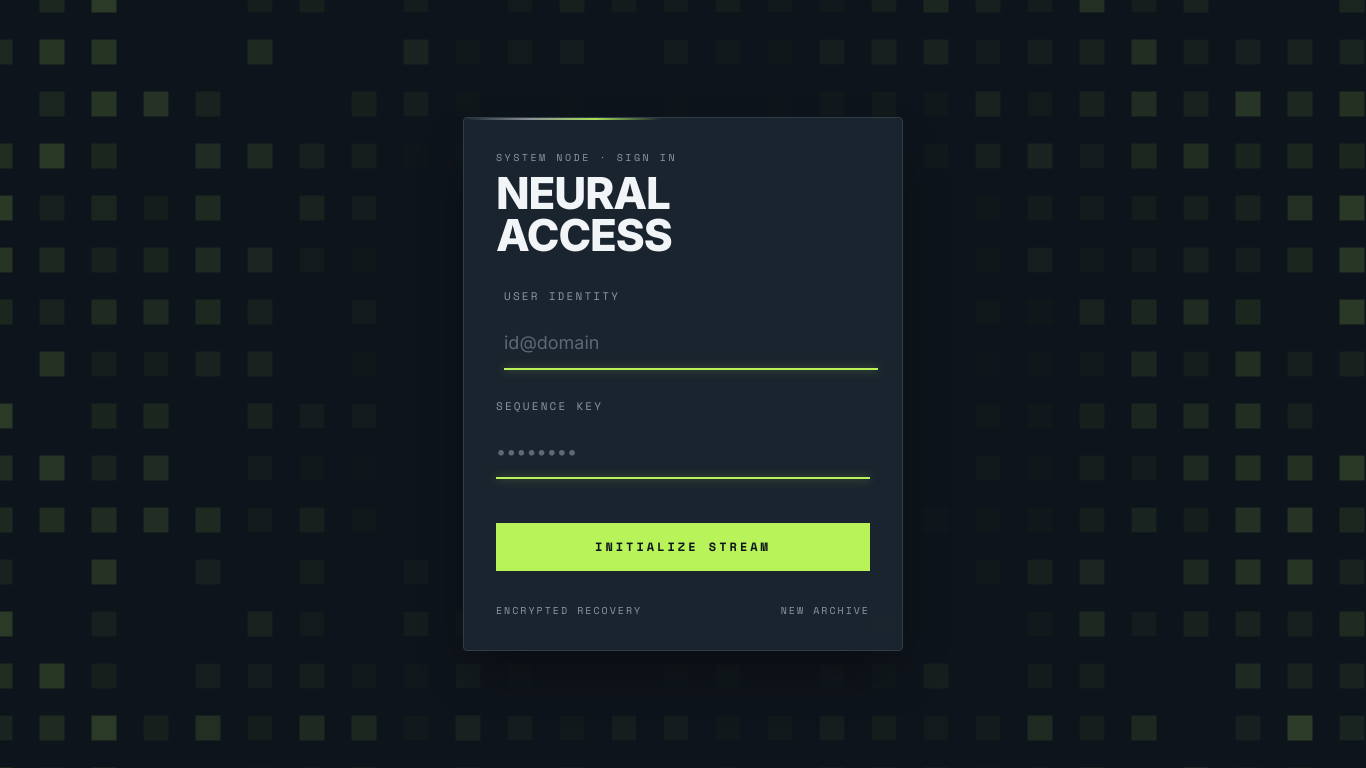
Scenario: Login › shows a backend error for invalid credentials
Type "operator@docura.test" into the field labelled "User Identity" at (691, 343), box x1=504 y1=317 x2=878 y2=370
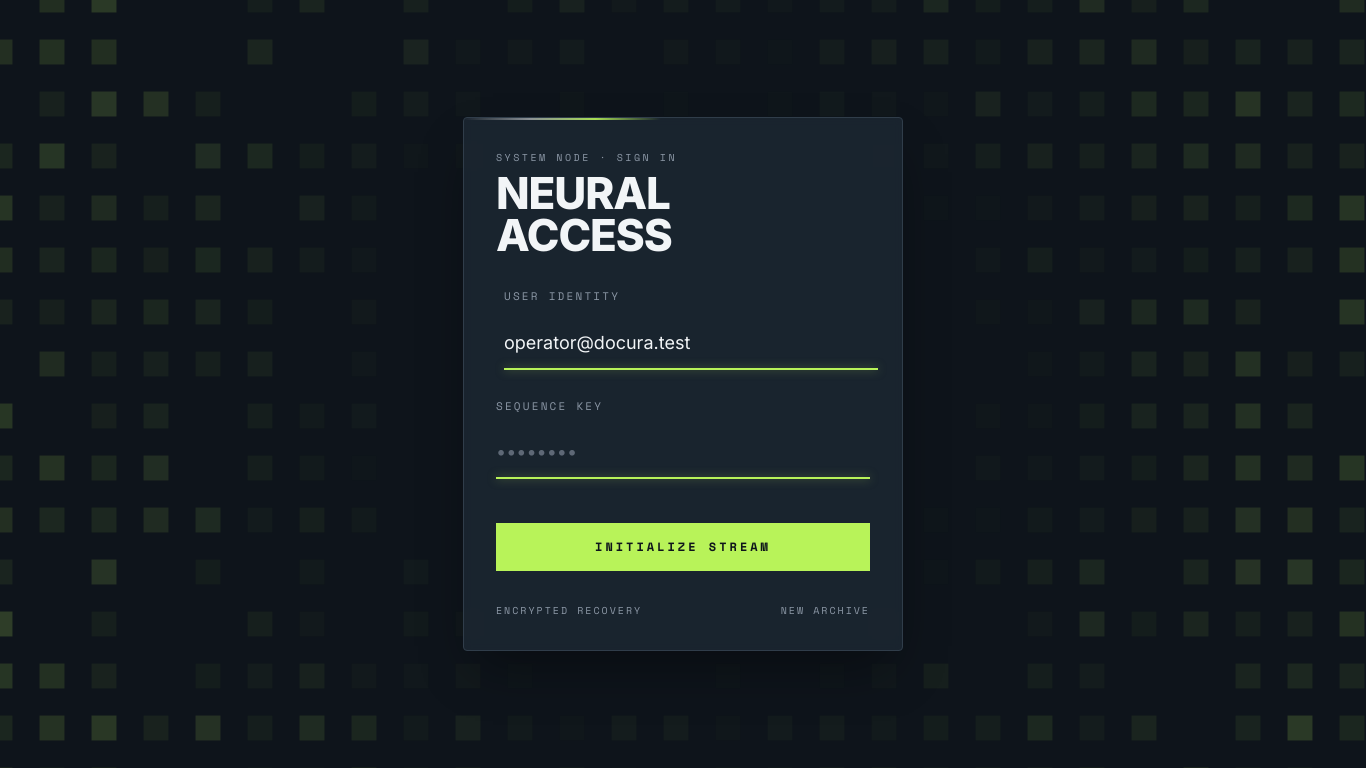
Type "wrongpass" into the password field labelled "Sequence Key" at (683, 453), box x1=496 y1=426 x2=870 y2=479
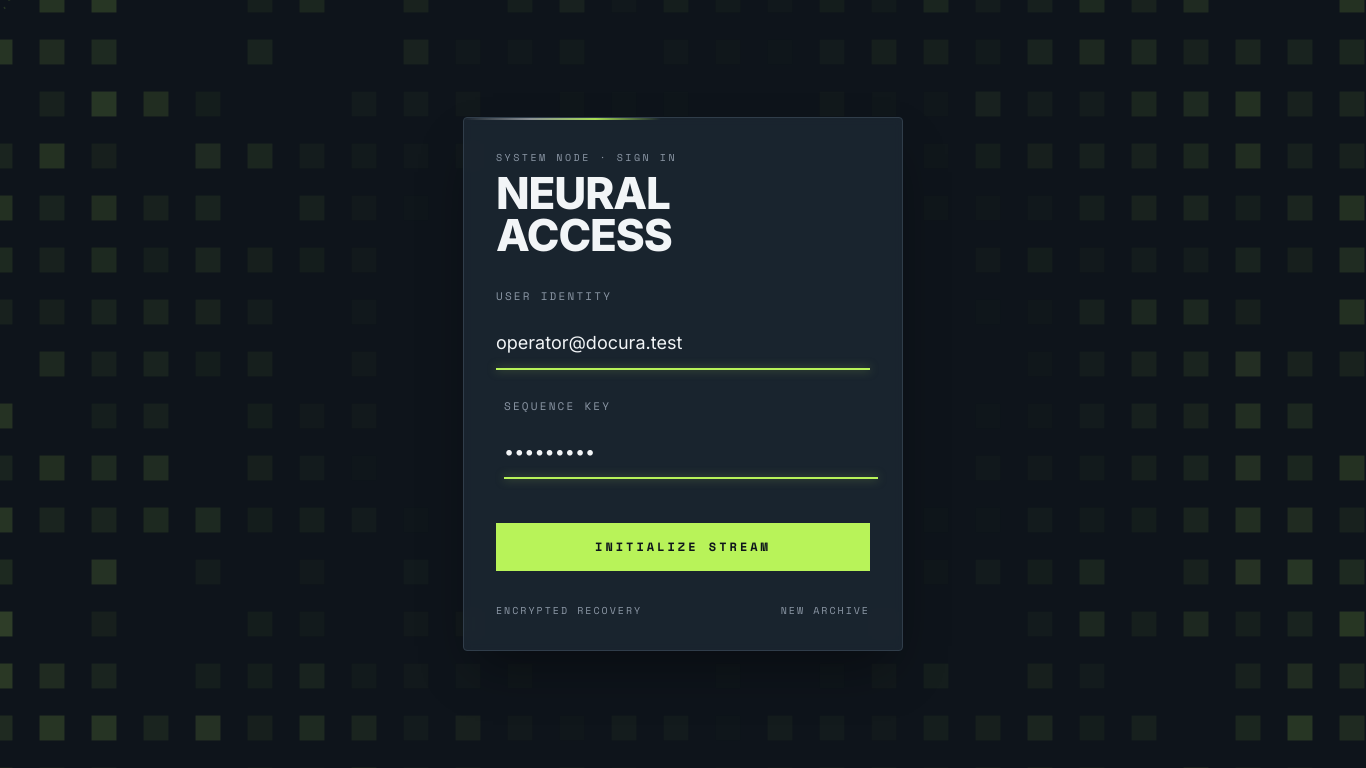
Click the button "Initialize Stream" at (683, 547), box x1=496 y1=523 x2=870 y2=571
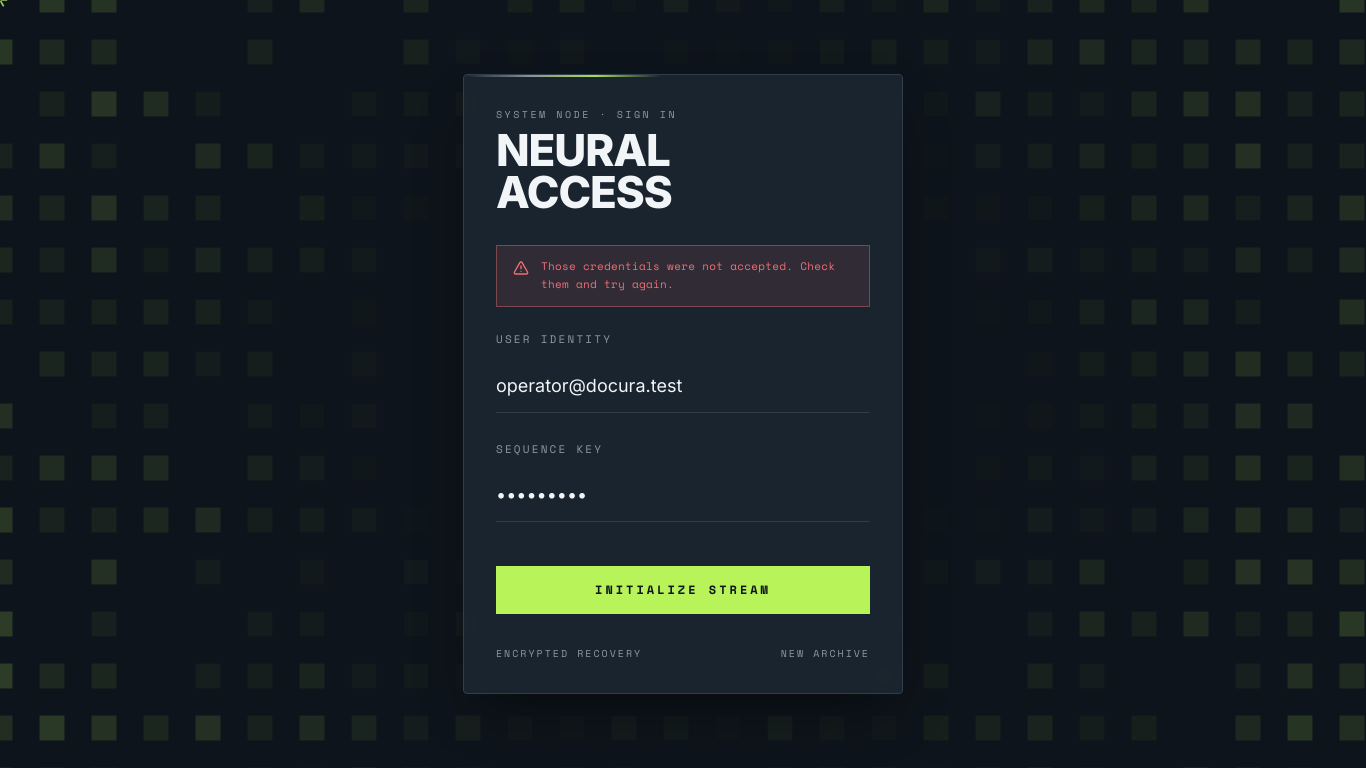
Result: the message shows "not accepted" at x1=541 y1=258 x2=835 y2=292
